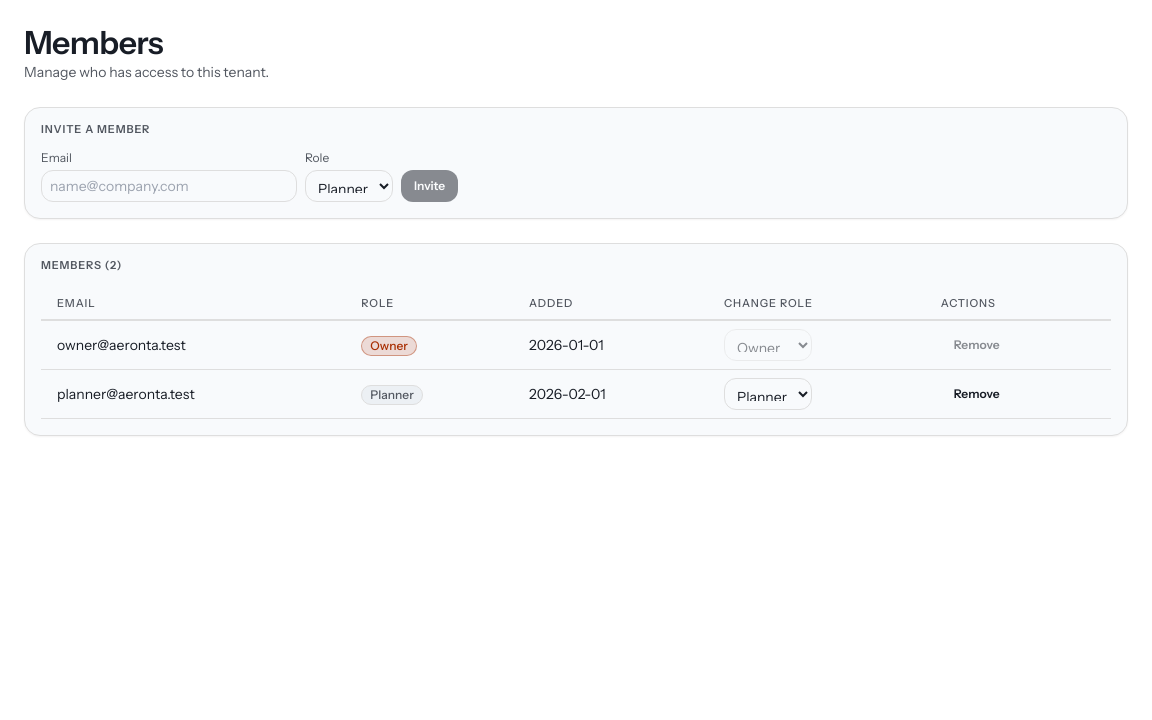
Test case: Members › a 409 on delete renders the last-owner message and keeps the dialog open
The width and height of the screenshot is (1152, 720).
Expected: the text "planner@aeronta.test" is shown, [41, 370, 345, 419]
What coordinates should you click on to do the following:
click the button "Remove" in the row of "planner@aeronta.test"
I would click on:
 (977, 394)
Its box is [941, 378, 1012, 410].
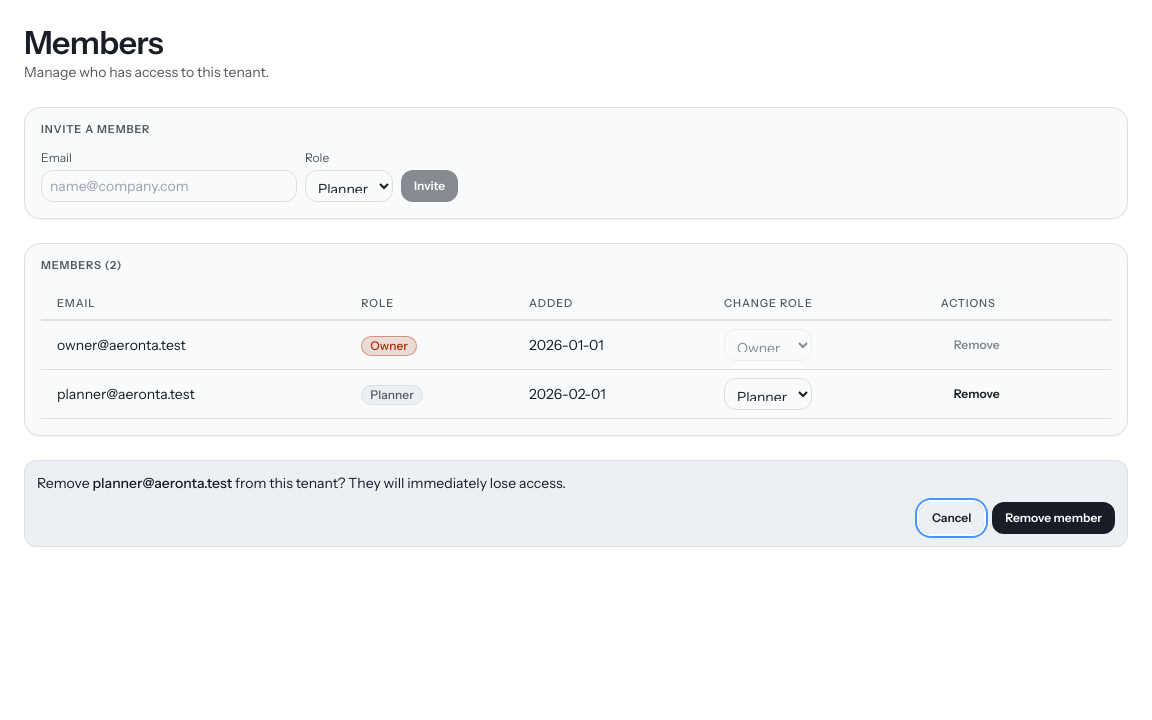
What coordinates should you click on to do the following:
click the button "Remove member"
I would click on:
 (1054, 518)
Its box is [992, 502, 1115, 534].
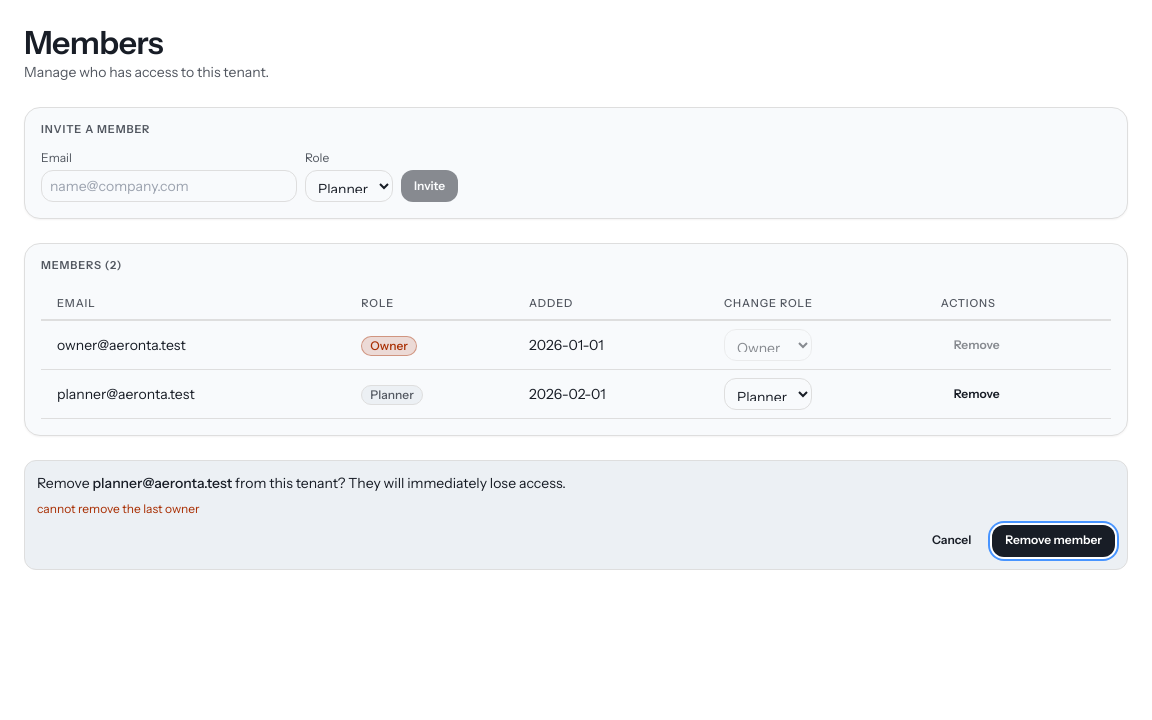
Expected: the text "planner@aeronta.test" is shown, [41, 370, 345, 419]
Now the message reads "cannot remove the last owner", box [37, 501, 200, 516]
